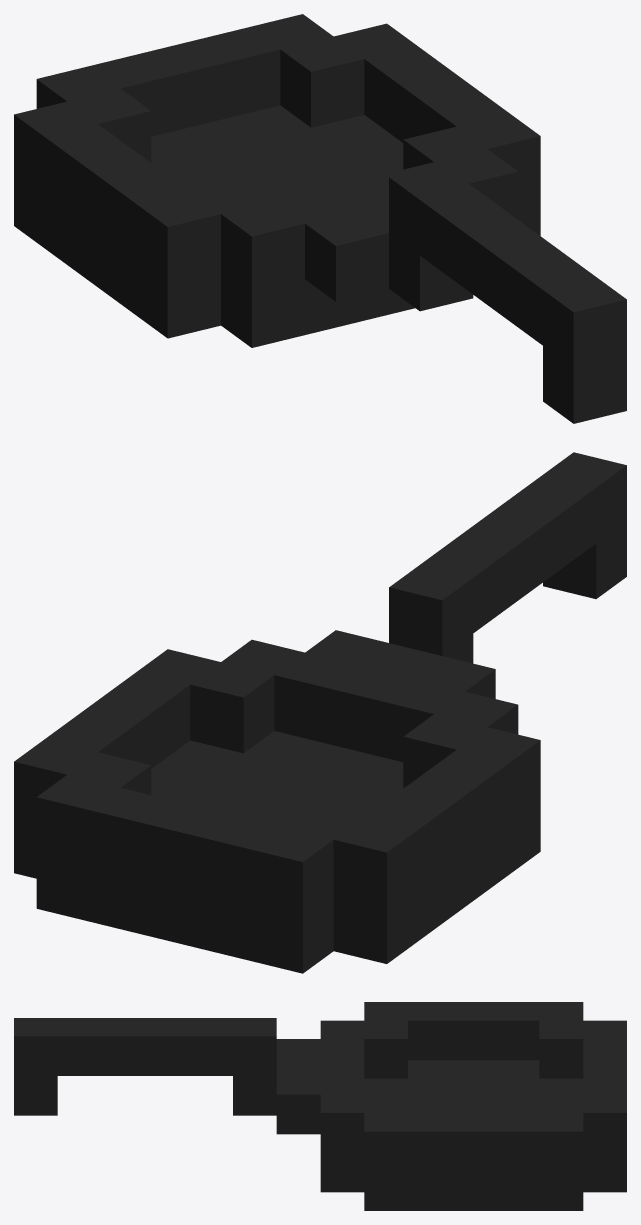
The model's file is pan.obj.
The picture shows the model from 3 angles, top to bottom: view 1: azimuth 30°, elevation 25°; view 2: azimuth 150°, elevation 25°; view 3: azimuth 270°, elevation 25°; orthographic projection. The views are drawn at different scales.
Bounding box in the file's own units: 0.7 × 0.3 × 1.4.
Materials: 1 (1 with a texture image).
